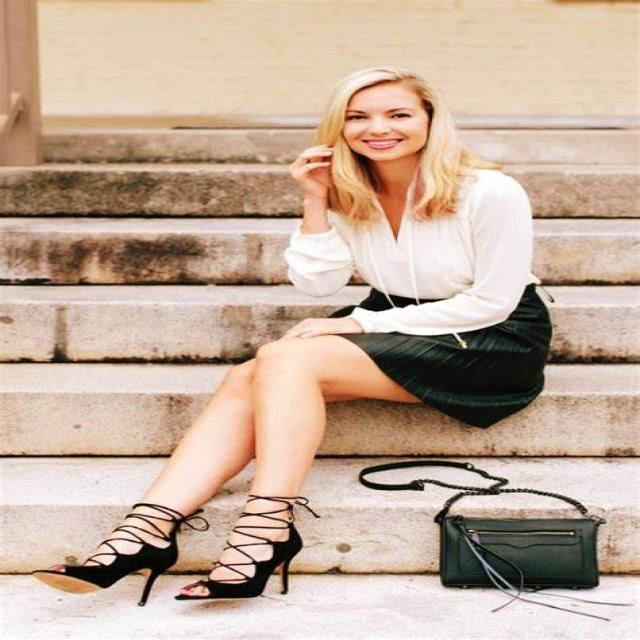sit: (184, 56, 531, 546)
